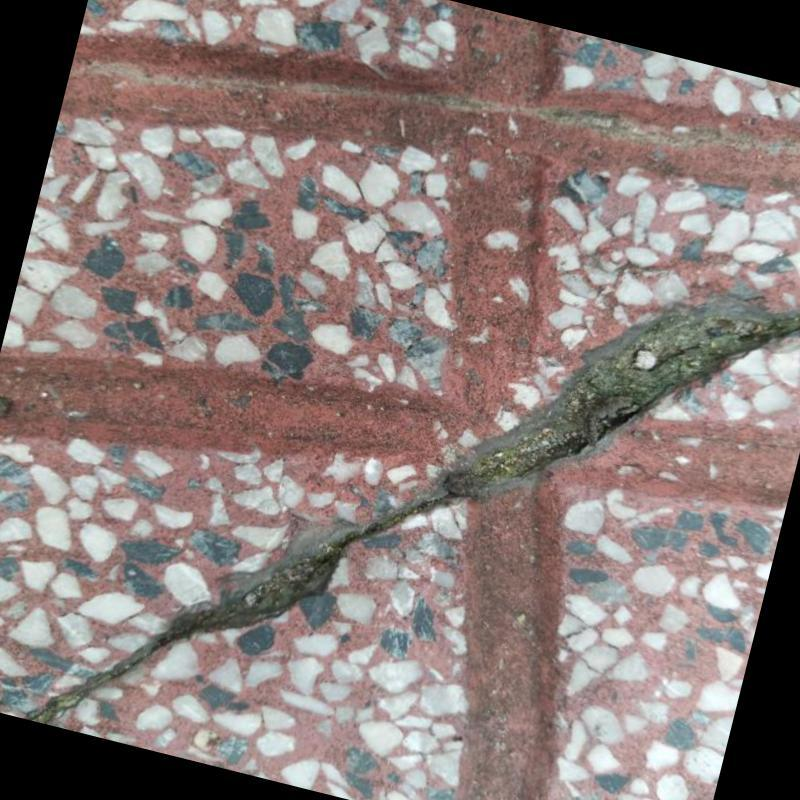crack: (26, 294, 800, 723)
